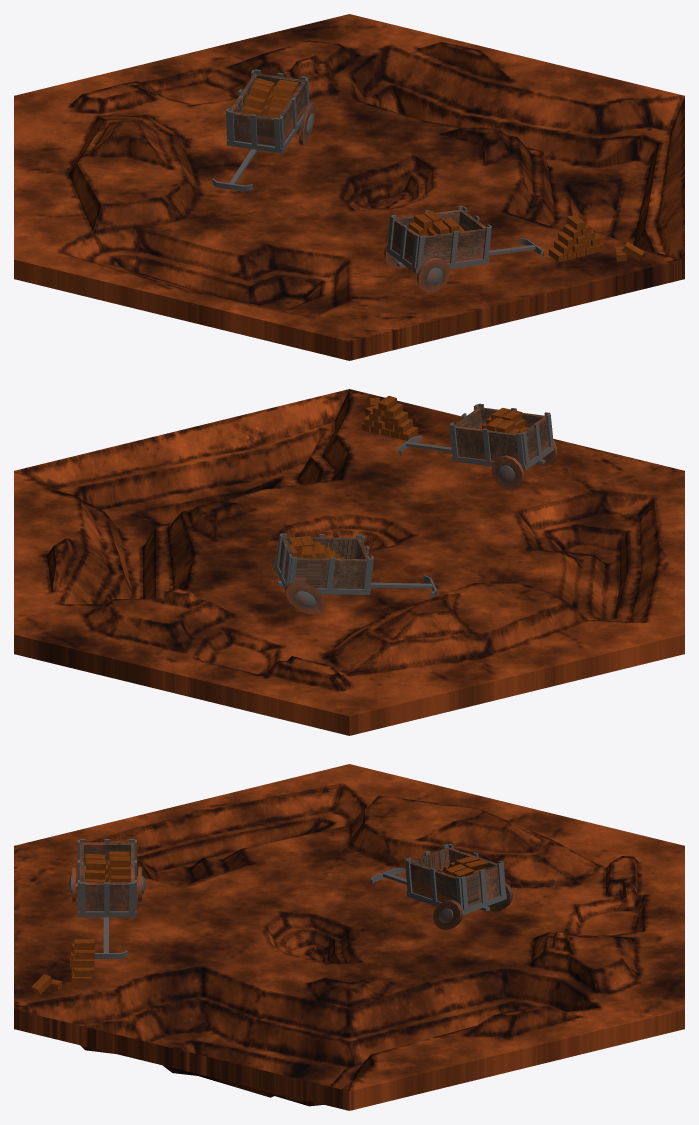
File: brick_tile_empty02.fbx
The picture shows the model from 3 angles, top to bottom: view 1: azimuth 30°, elevation 25°; view 2: azimuth 150°, elevation 25°; view 3: azimuth 270°, elevation 25°; orthographic projection.
Visible parts, largest first — view 1: brick_tile_ground, cart, cart1, wheel1; view 2: brick_tile_ground, cart1, cart, wheel3, wheel2; view 3: brick_tile_ground, cart1, cart, wheel4.
Boxes of the visible parts, x1,y1,x2,y2 form: brick_tile_ground: [14, 14, 684, 360]; cart: [392, 209, 486, 264]; cart1: [230, 73, 305, 146]; wheel1: [417, 258, 449, 292]; brick_tile_ground: [14, 389, 684, 735]; cart1: [279, 536, 369, 588]; cart: [455, 407, 549, 461]; wheel3: [285, 581, 325, 614]; wheel2: [491, 455, 524, 490]; brick_tile_ground: [14, 764, 684, 1110]; cart1: [410, 847, 499, 906]; cart: [79, 842, 134, 911]; wheel4: [433, 900, 462, 929].
Bounding box in the file's own units: 139 × 22.66 × 120.
